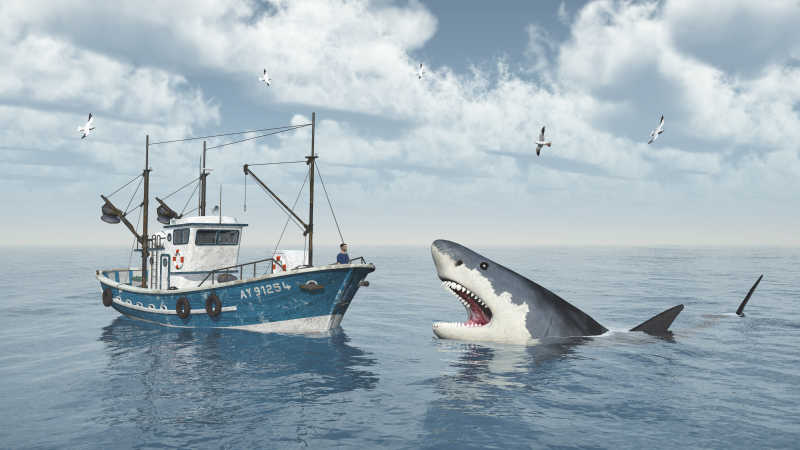shark: (421, 238, 690, 358)
